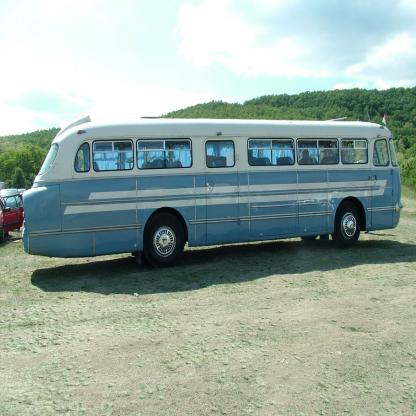Car: (1, 182, 27, 243)
